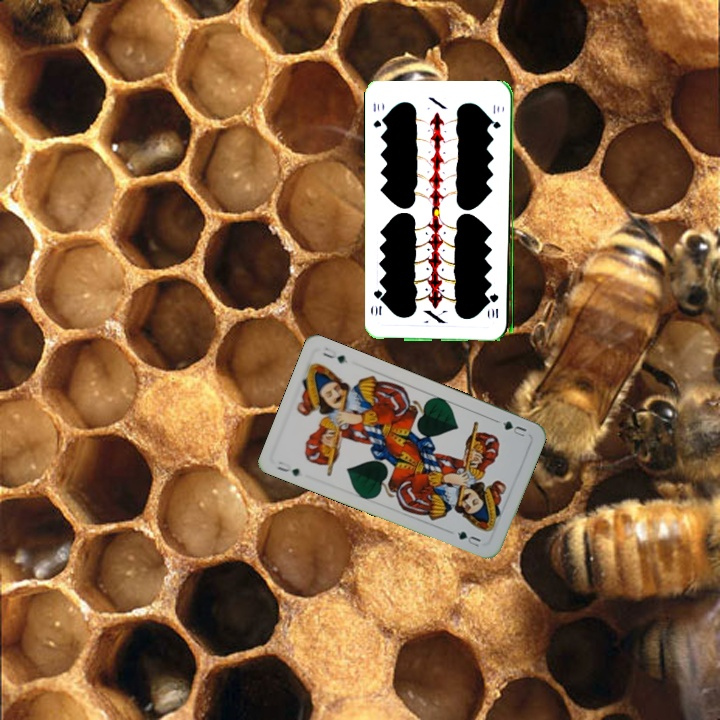G10: (369, 99, 387, 130), (489, 289, 501, 321)
GU: (498, 417, 529, 439), (272, 457, 302, 479)
